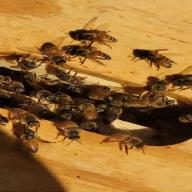Bee: (130, 47, 188, 75), (103, 130, 152, 156), (36, 40, 81, 66), (65, 23, 116, 43), (6, 106, 43, 129), (56, 125, 90, 145)
